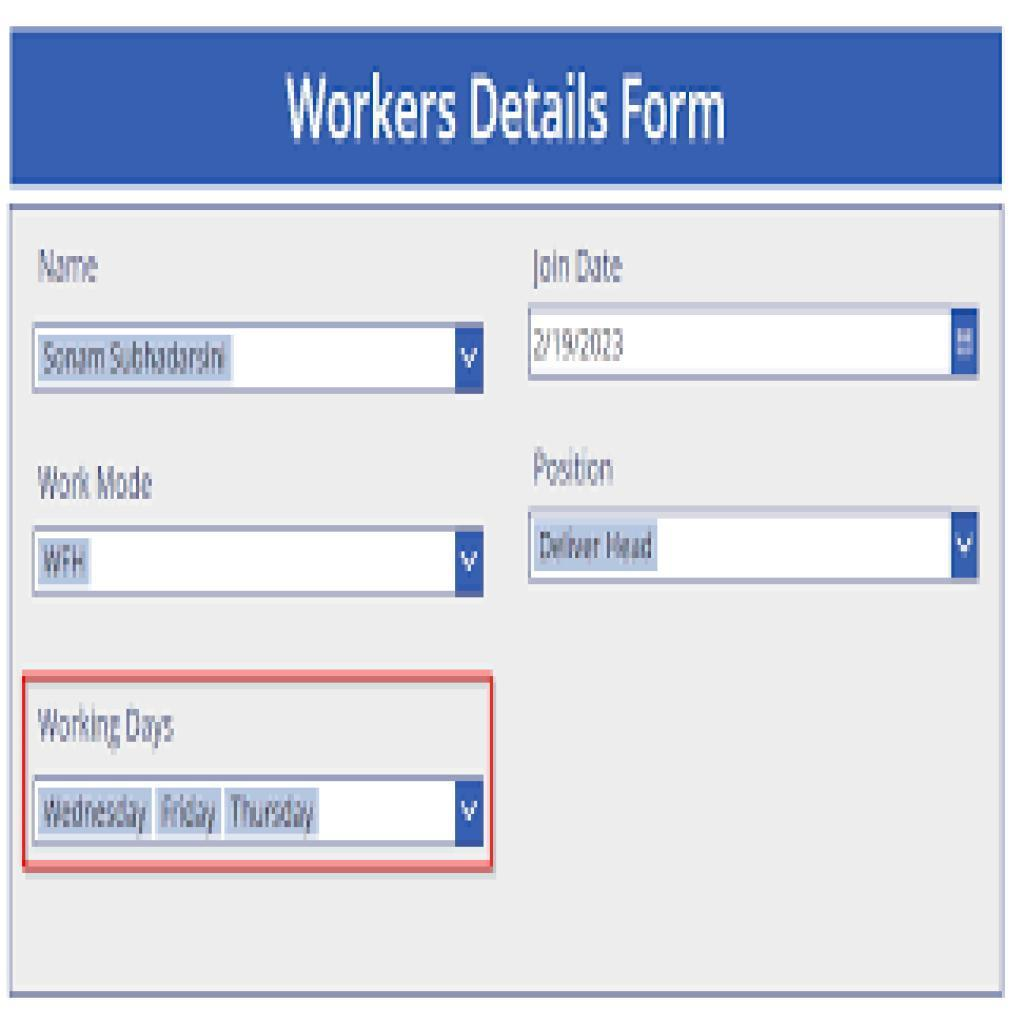dropdown: (531, 509, 978, 583), (34, 324, 485, 397), (34, 528, 487, 600), (34, 776, 485, 847)
input: (530, 307, 979, 379)
label: (279, 70, 733, 169), (37, 702, 180, 756), (34, 463, 154, 507), (529, 245, 629, 292), (529, 444, 619, 492), (35, 244, 106, 290)
